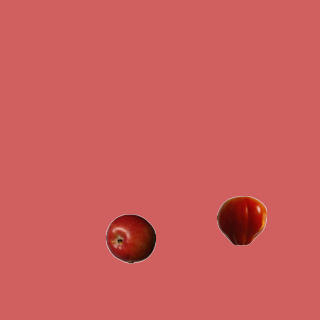Apple Braeburn: (105, 213, 155, 263)
Tomato 1: (216, 195, 266, 245)
